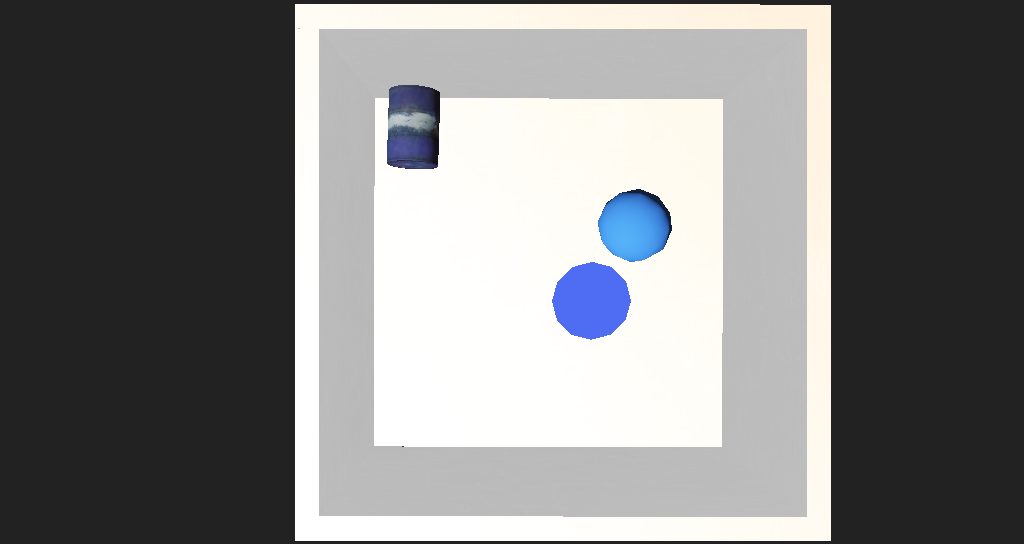cone: (357, 155, 411, 208)
cylinder: (509, 258, 569, 305)
sphere: (549, 215, 610, 262)
